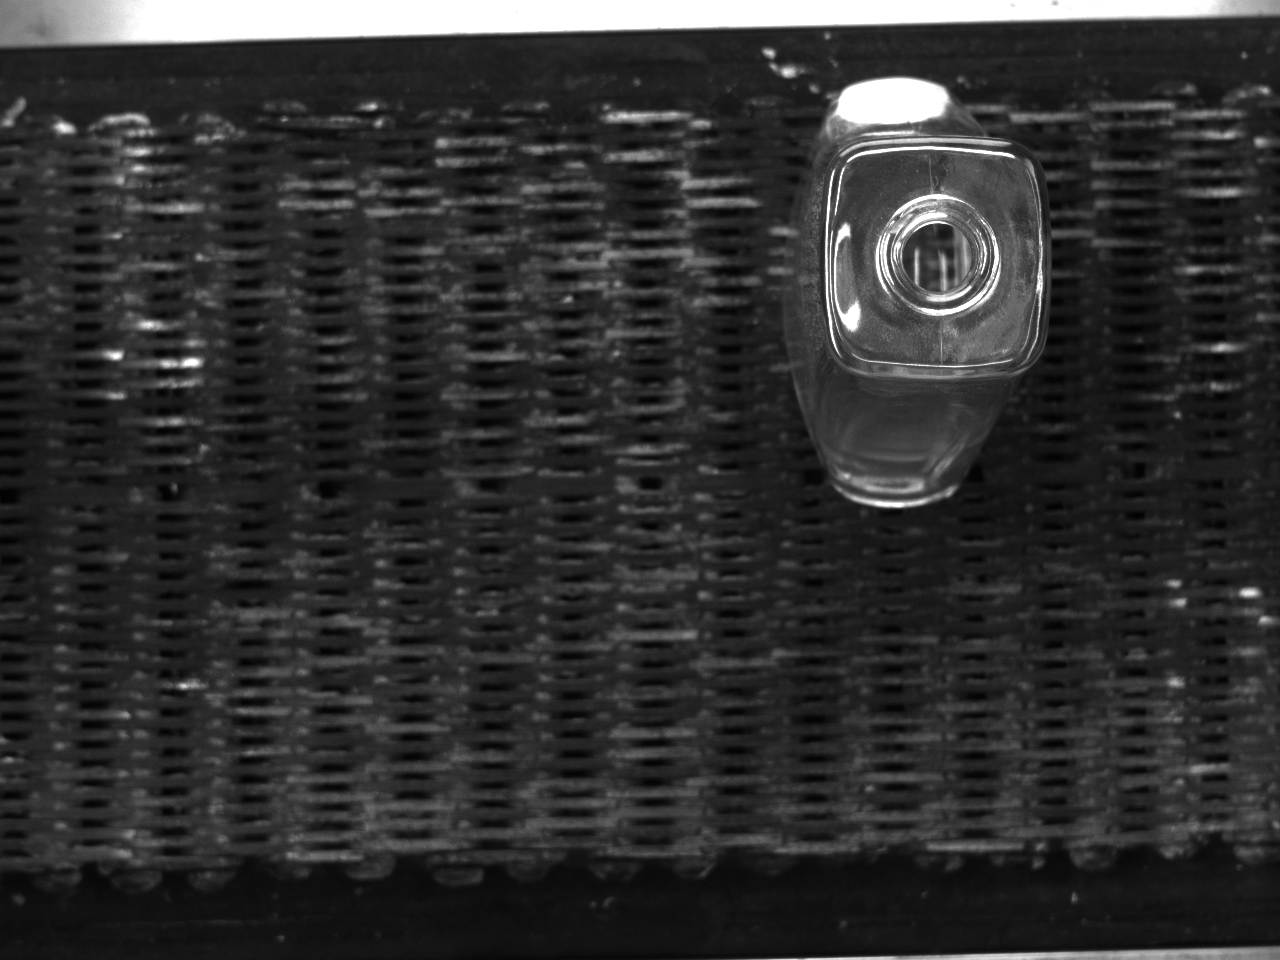bottleneck: (876, 195, 1001, 315)
